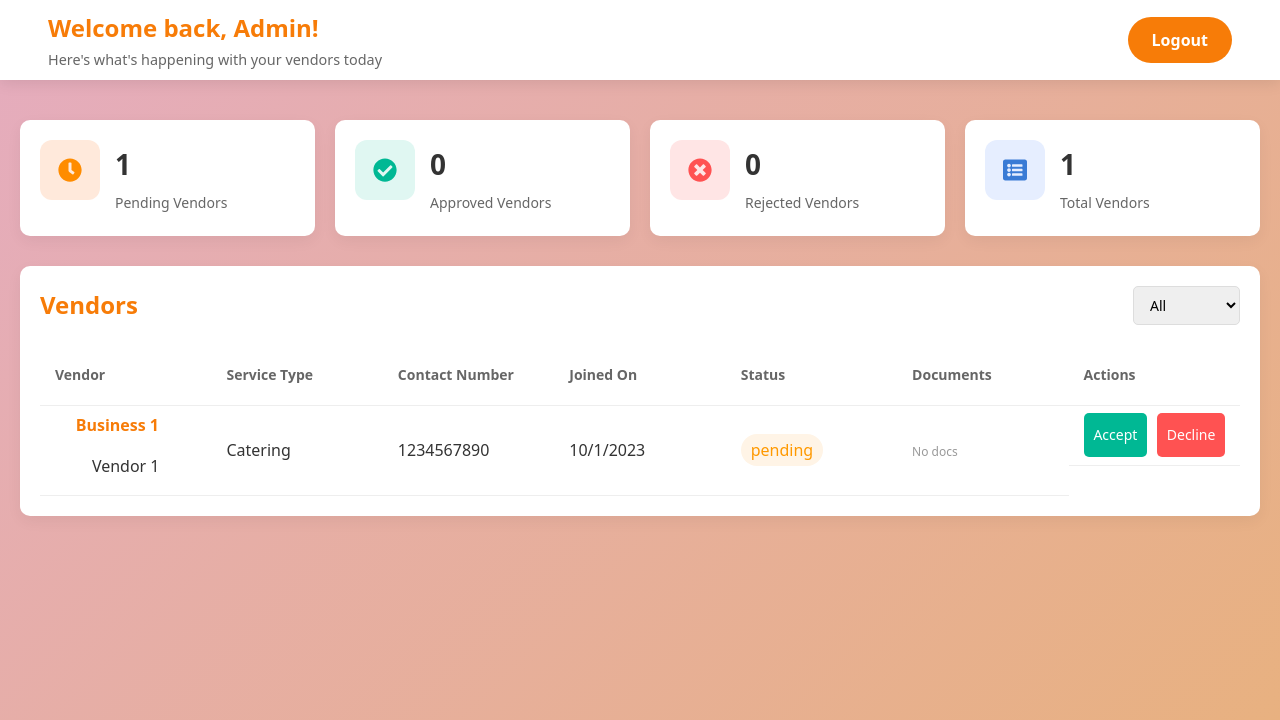
Test case: AdminDashboard › handles accept action
The width and height of the screenshot is (1280, 720).
Check: the text "pending" is shown, box [741,434,823,466]
Click the button "Accept".
click(1115, 435)  # box [1084,413,1147,457]
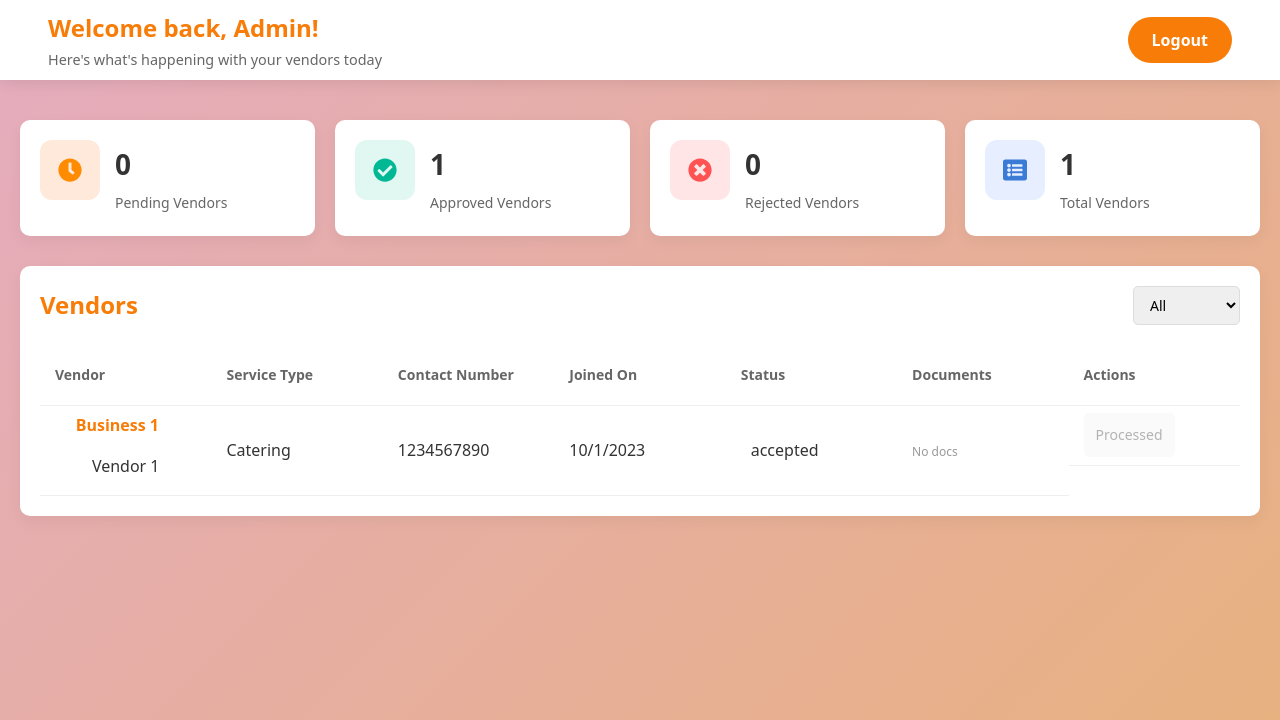
Check: the button "Processed" is shown, box [1084,413,1174,457]
